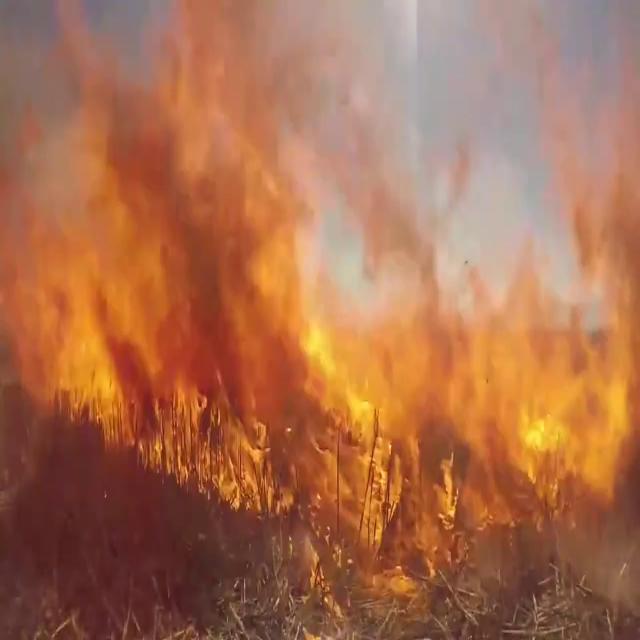Fire: (0, 26, 351, 529), (300, 223, 636, 629)
